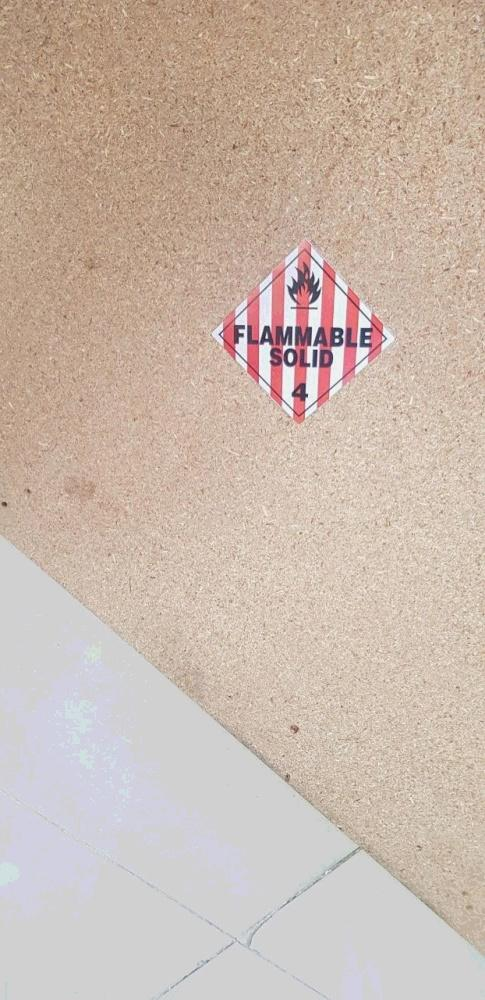flammable-solid: (209, 240, 396, 425)
